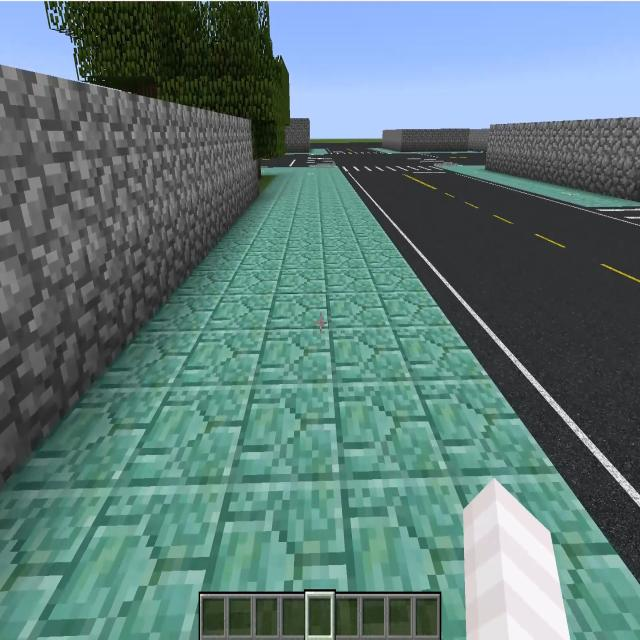crosswalk: (362, 166, 445, 173)
road: (309, 143, 639, 579)
sidewalk: (0, 160, 640, 639), (440, 163, 640, 212), (371, 148, 400, 153), (309, 148, 328, 155)
